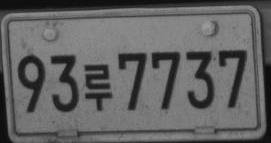3: (49, 53, 79, 112), (185, 50, 214, 109)
7: (150, 50, 181, 109), (117, 51, 147, 111), (217, 49, 247, 107)
9: (17, 54, 46, 113)
루: (83, 63, 113, 110)
